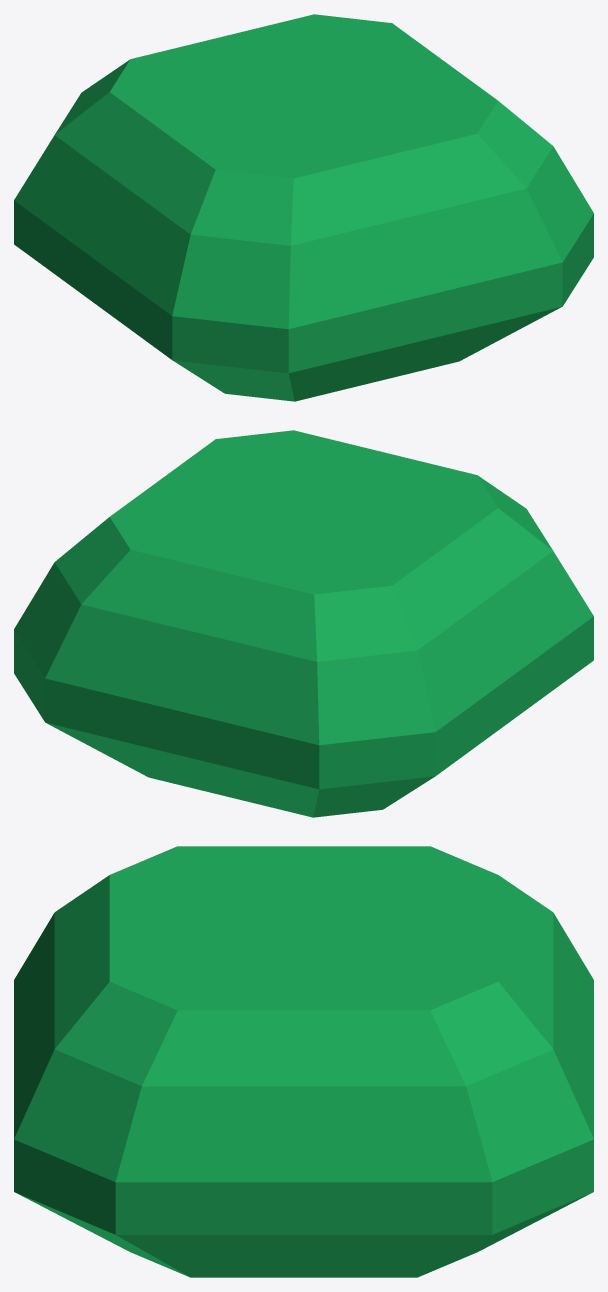
Rendered from SM_Emerald_Flawless.fbx.
The picture shows the model from 3 angles, top to bottom: view 1: azimuth 30°, elevation 25°; view 2: azimuth 150°, elevation 25°; view 3: azimuth 270°, elevation 25°; orthographic projection. The views are drawn at different scales.
Parts seen in each view (by area): view 1: SM_Emerald_Flawless; view 2: SM_Emerald_Flawless; view 3: SM_Emerald_Flawless.
Boxes of the visible parts, left/top/right/bottom form: SM_Emerald_Flawless: left=14, top=14, right=593, bottom=401; SM_Emerald_Flawless: left=14, top=430, right=593, bottom=817; SM_Emerald_Flawless: left=14, top=846, right=593, bottom=1277.
Size of the model in its own units: 20 by 20 by 12.5.
